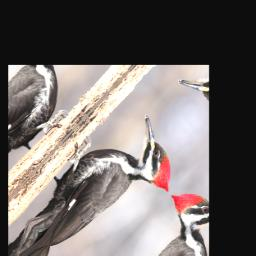Woodpecker: (18, 90, 194, 256)
